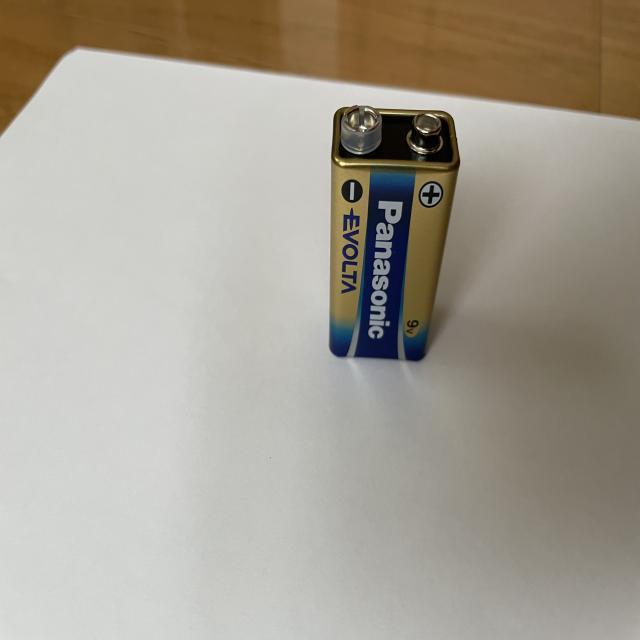9V: (327, 103, 460, 364)
